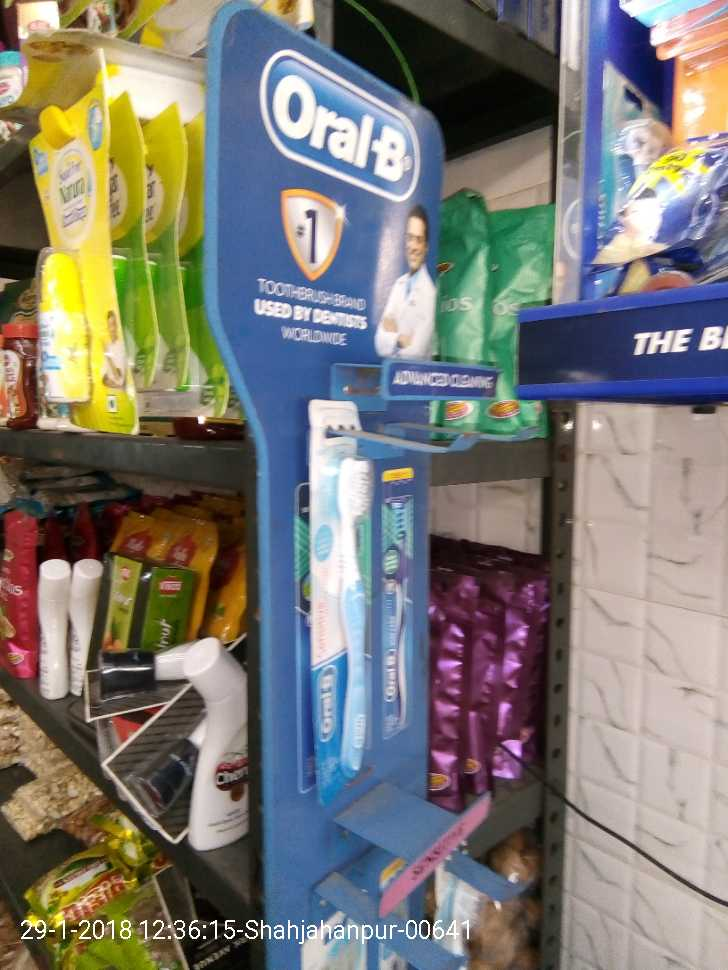oralb: (325, 446, 393, 775)
